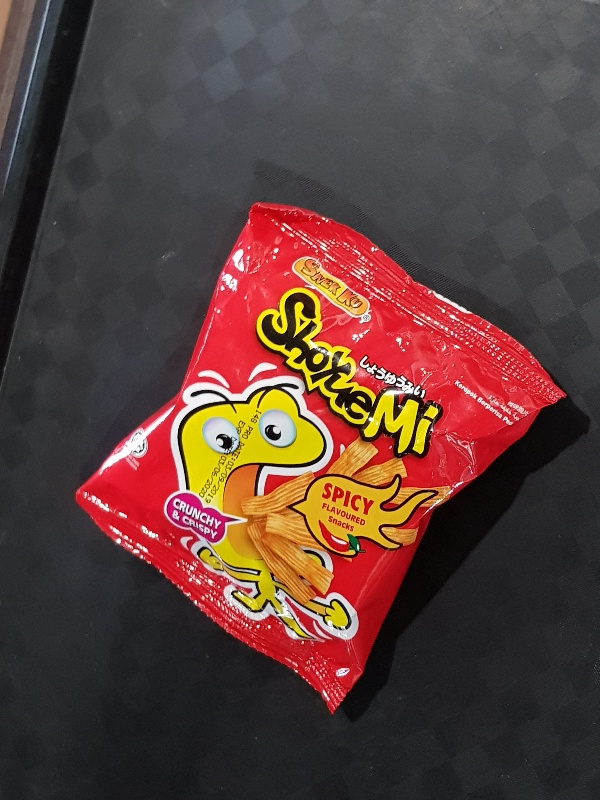ShoyueMi Spicy Flavoured Snacks: (70, 197, 569, 718)
